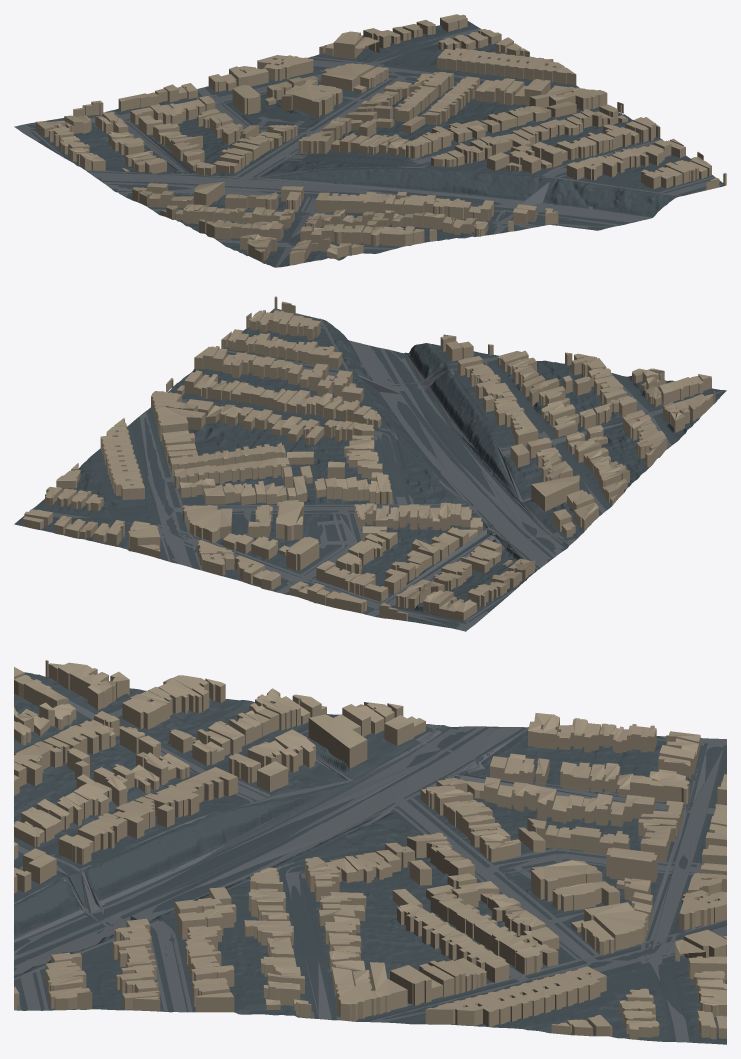
The model's file is epsg26910-1433-10876.lod0.glb.
3 views of the same model, one above another, from view 1: azimuth 30°, elevation 25°; view 2: azimuth 150°, elevation 25°; view 3: azimuth 270°, elevation 25° (orthographic). The views are drawn at different scales.
Visible parts, largest first — view 1: epsg26910-1433-10876-lod0; view 2: epsg26910-1433-10876-lod0; view 3: epsg26910-1433-10876-lod0.
Part boxes in pixels (box(x1,y1,x2,y2)): epsg26910-1433-10876-lod0: box(14, 14, 726, 267); epsg26910-1433-10876-lod0: box(14, 296, 726, 631); epsg26910-1433-10876-lod0: box(14, 660, 726, 1044).
Size of the model in its own units: 384 by 55.97 by 384.
